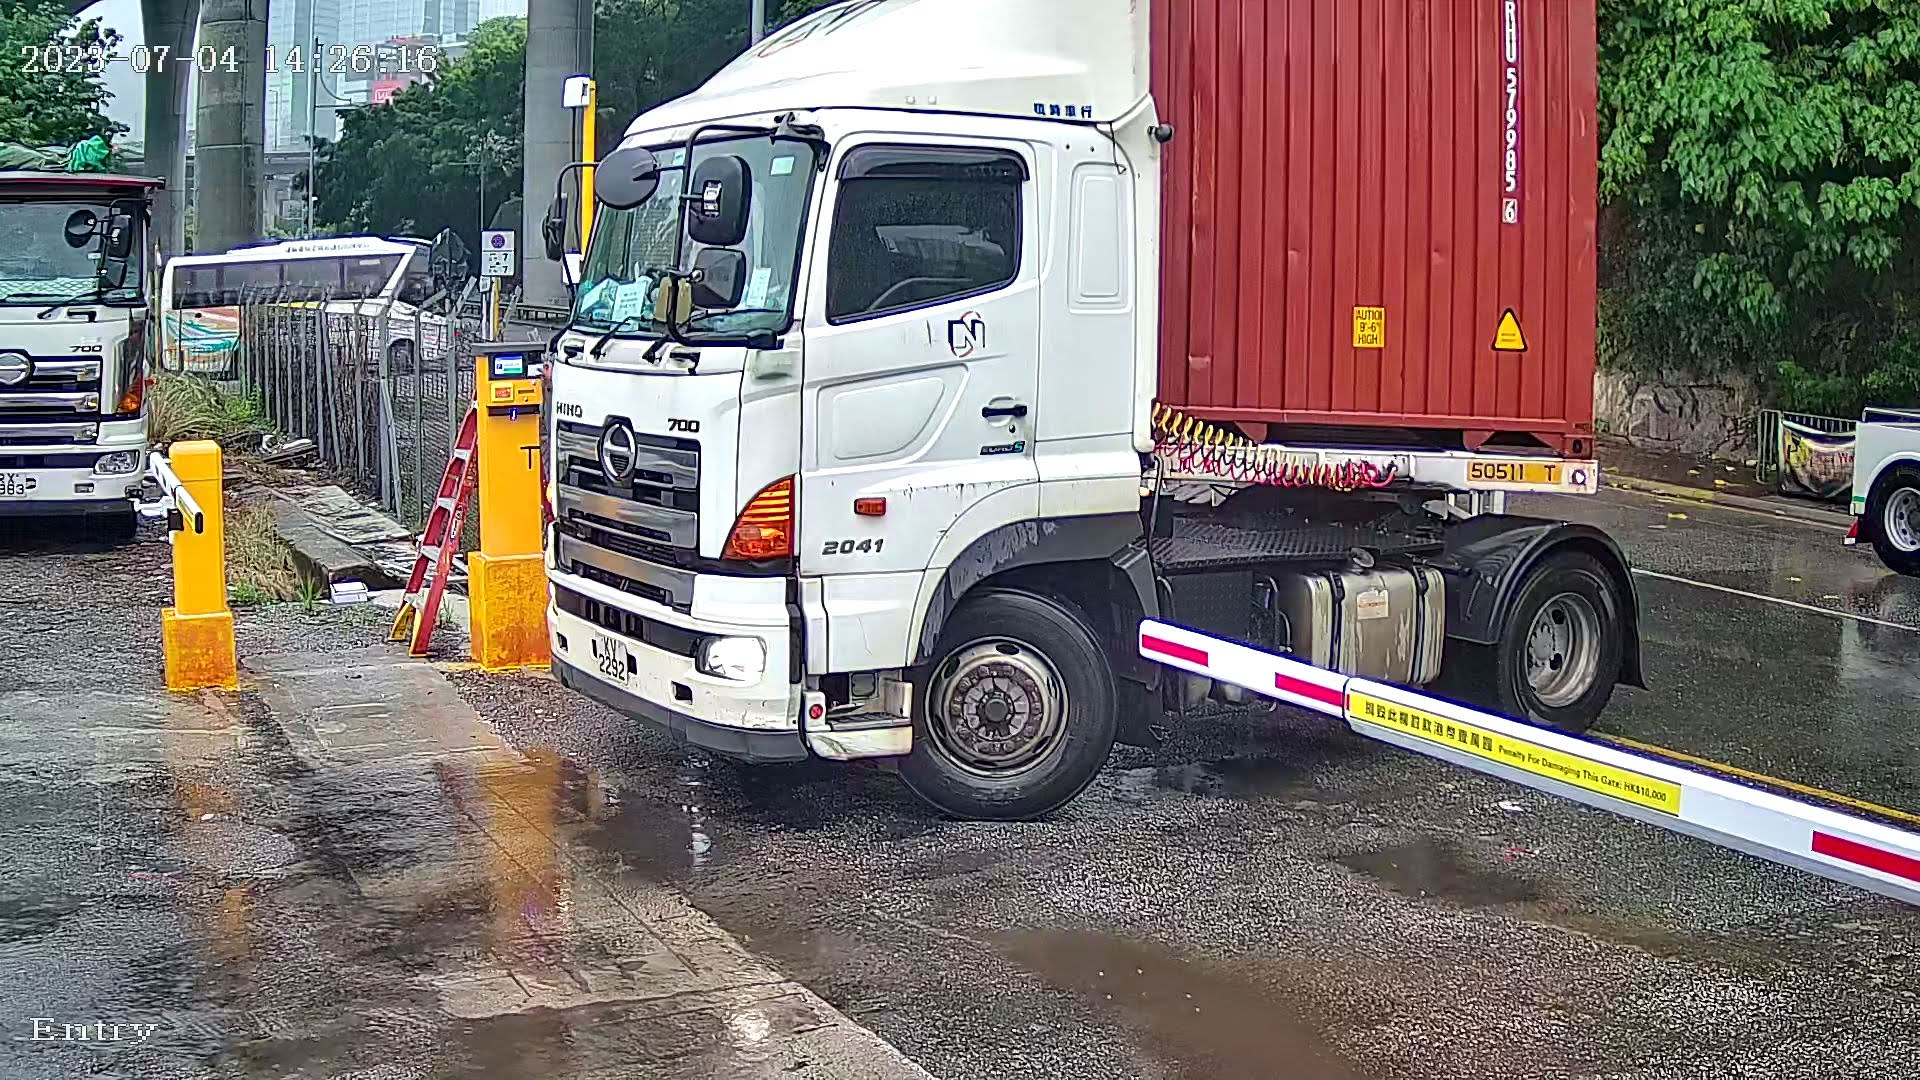tractor: (516, 1, 1636, 818)
